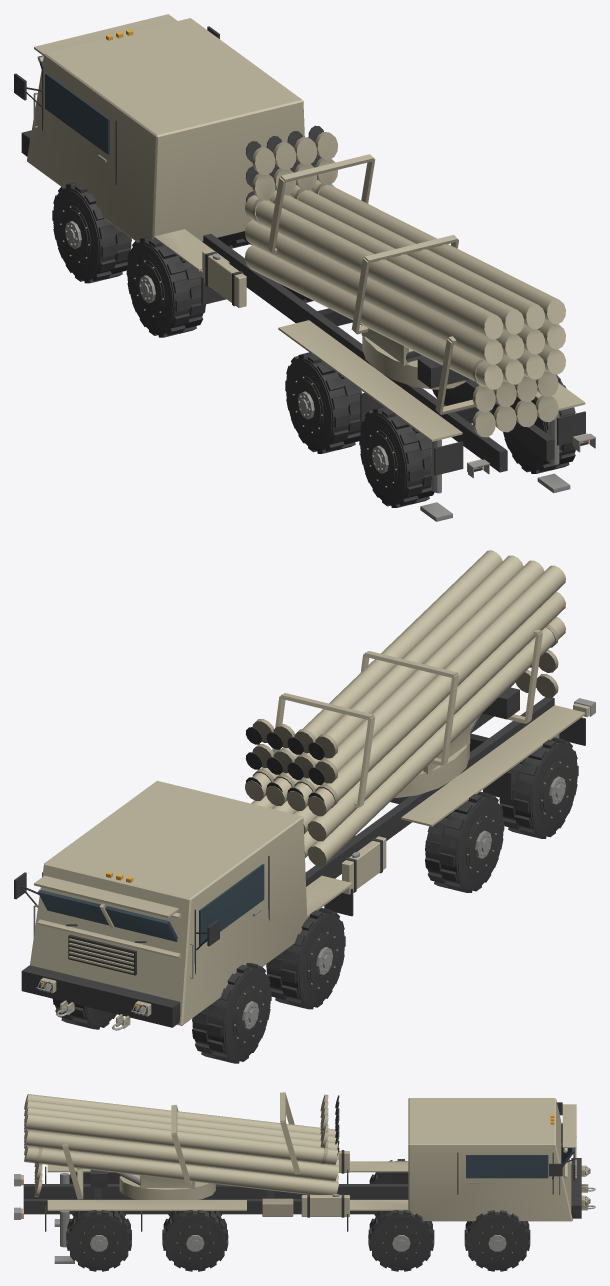
File: rus_mlrs_tors.glb
3 renders of one model, top to bottom at view 1: azimuth 30°, elevation 25°; view 2: azimuth 150°, elevation 25°; view 3: azimuth 270°, elevation 25°, orthographic. The views are drawn at different scales.
Visible parts, largest first — view 1: body, barrel, wheel_2, wheel_4, wheel_6, wheel_0, turret, wheel_7; view 2: body, barrel, wheel_4, wheel_6, wheel_0, wheel_2, turret, wheel_1; view 3: body, barrel, wheel_5, wheel_7, wheel_3, wheel_1, turret, wheel_2, wheel_6.
Boxes of the visible parts, x1,y1,x2,y2 form: body: (14,14,595,521); barrel: (245,125,565,437); wheel_2: (126,237,205,337); wheel_4: (285,352,361,453); wheel_6: (359,406,434,507); wheel_0: (52,183,131,283); turret: (361,325,465,389); wheel_7: (503,374,575,473); body: (14,697,595,1030); barrel: (245,550,565,866); wheel_4: (425,791,504,892); wheel_6: (499,737,578,838); wheel_0: (192,963,271,1063); wheel_2: (266,908,345,1009); turret: (394,715,480,797); wheel_1: (53,999,116,1029); body: (14,1098,595,1263); barrel: (24,1092,339,1199); wheel_5: (162,1210,228,1271); wheel_7: (66,1210,131,1271); wheel_3: (368,1210,434,1271); wheel_1: (464,1210,530,1271); turret: (114,1172,215,1199); wheel_2: (369,1159,408,1215); wheel_6: (69,1172,125,1215).
Bounding box in the file's own units: 3.05 × 3.23 × 12.12.
